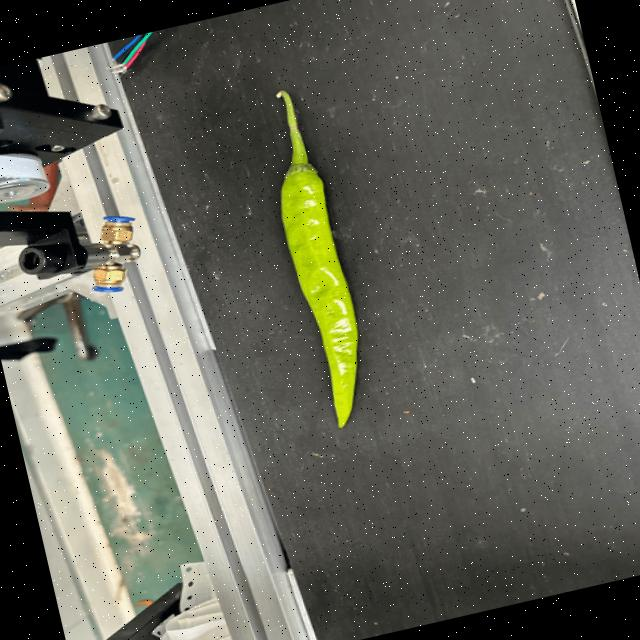chili: (277, 161, 358, 428)
